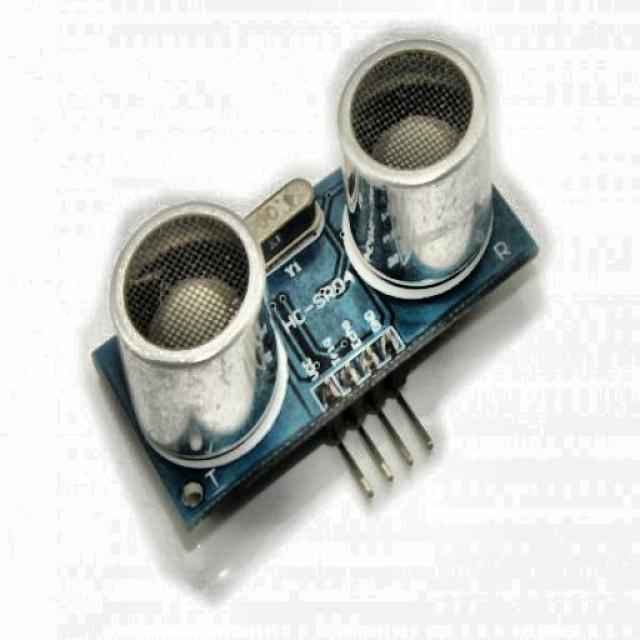Ultrasonic Sensor: (21, 5, 615, 611)
